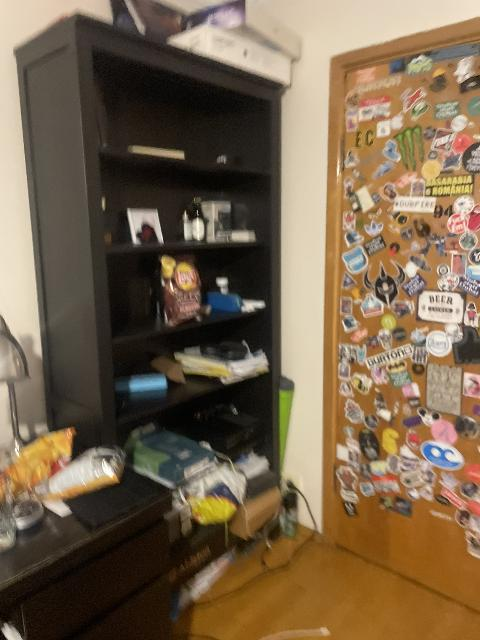Chio Cascaval 125g: (0, 425, 78, 504)
Chio Hula Hoops Cheese 70g: (30, 445, 126, 500)
Lays Beef Grilled Ribs 125g: (160, 254, 204, 327)
